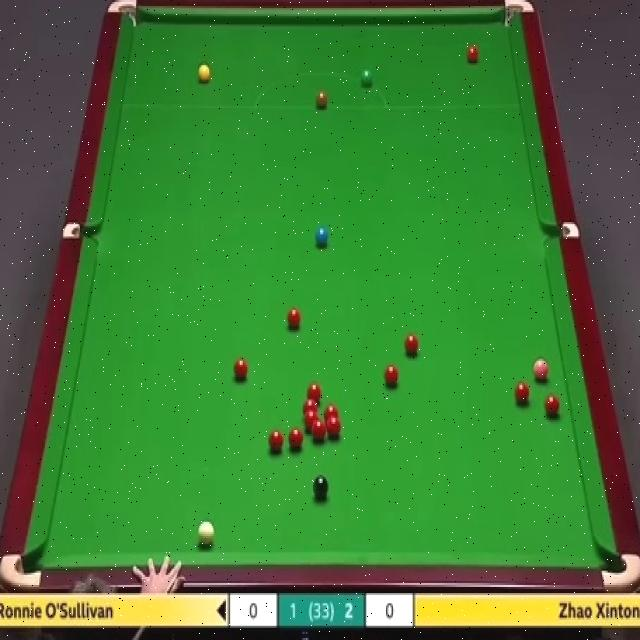black-ball: (312, 473, 329, 503)
blue-ball: (314, 227, 330, 248)
brown-ball: (315, 89, 328, 110)
green-ball: (360, 69, 373, 88)
pink-ball: (533, 357, 549, 383)
red-ball: (232, 357, 250, 384), (288, 425, 304, 454), (267, 428, 284, 453), (544, 395, 562, 418), (326, 416, 342, 441), (516, 381, 532, 406), (383, 364, 399, 389), (405, 332, 420, 357), (286, 308, 302, 330), (312, 418, 326, 442), (306, 382, 322, 400), (304, 412, 318, 431), (303, 398, 317, 414), (467, 46, 480, 62), (324, 406, 338, 420)
white-ball: (197, 520, 214, 551)
yellow-ball: (198, 65, 212, 85)
